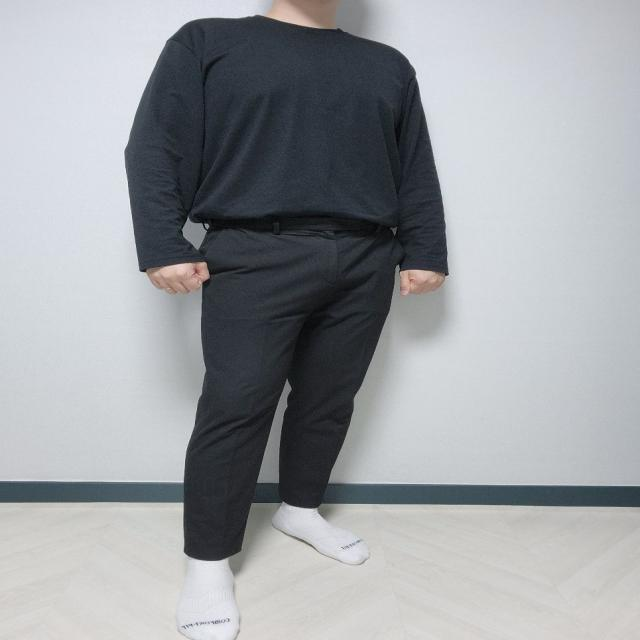longsleeve: (126, 14, 448, 274)
slacks: (187, 214, 406, 563)
